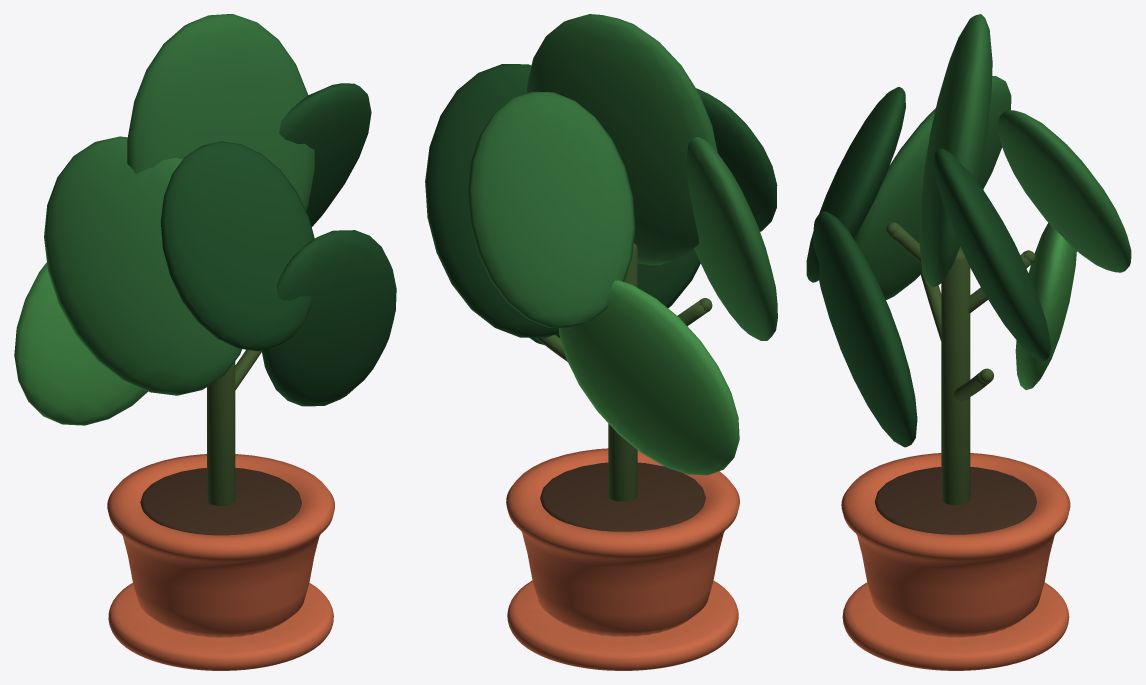
File: plant_a.glb
3 views of the same model, side by side, from view 1: azimuth 30°, elevation 25°; view 2: azimuth 150°, elevation 25°; view 3: azimuth 270°, elevation 25° (orthographic). The views are drawn at different scales.
Parts seen in each view (by area): view 1: body; view 2: body; view 3: body.
Boxes of the visible parts, x1,y1,x2,y2 form: body: [14, 14, 396, 670]; body: [425, 14, 777, 670]; body: [806, 14, 1131, 670].
Bounding box in the file's own units: 0.4174 × 0.7376 × 0.3585.
